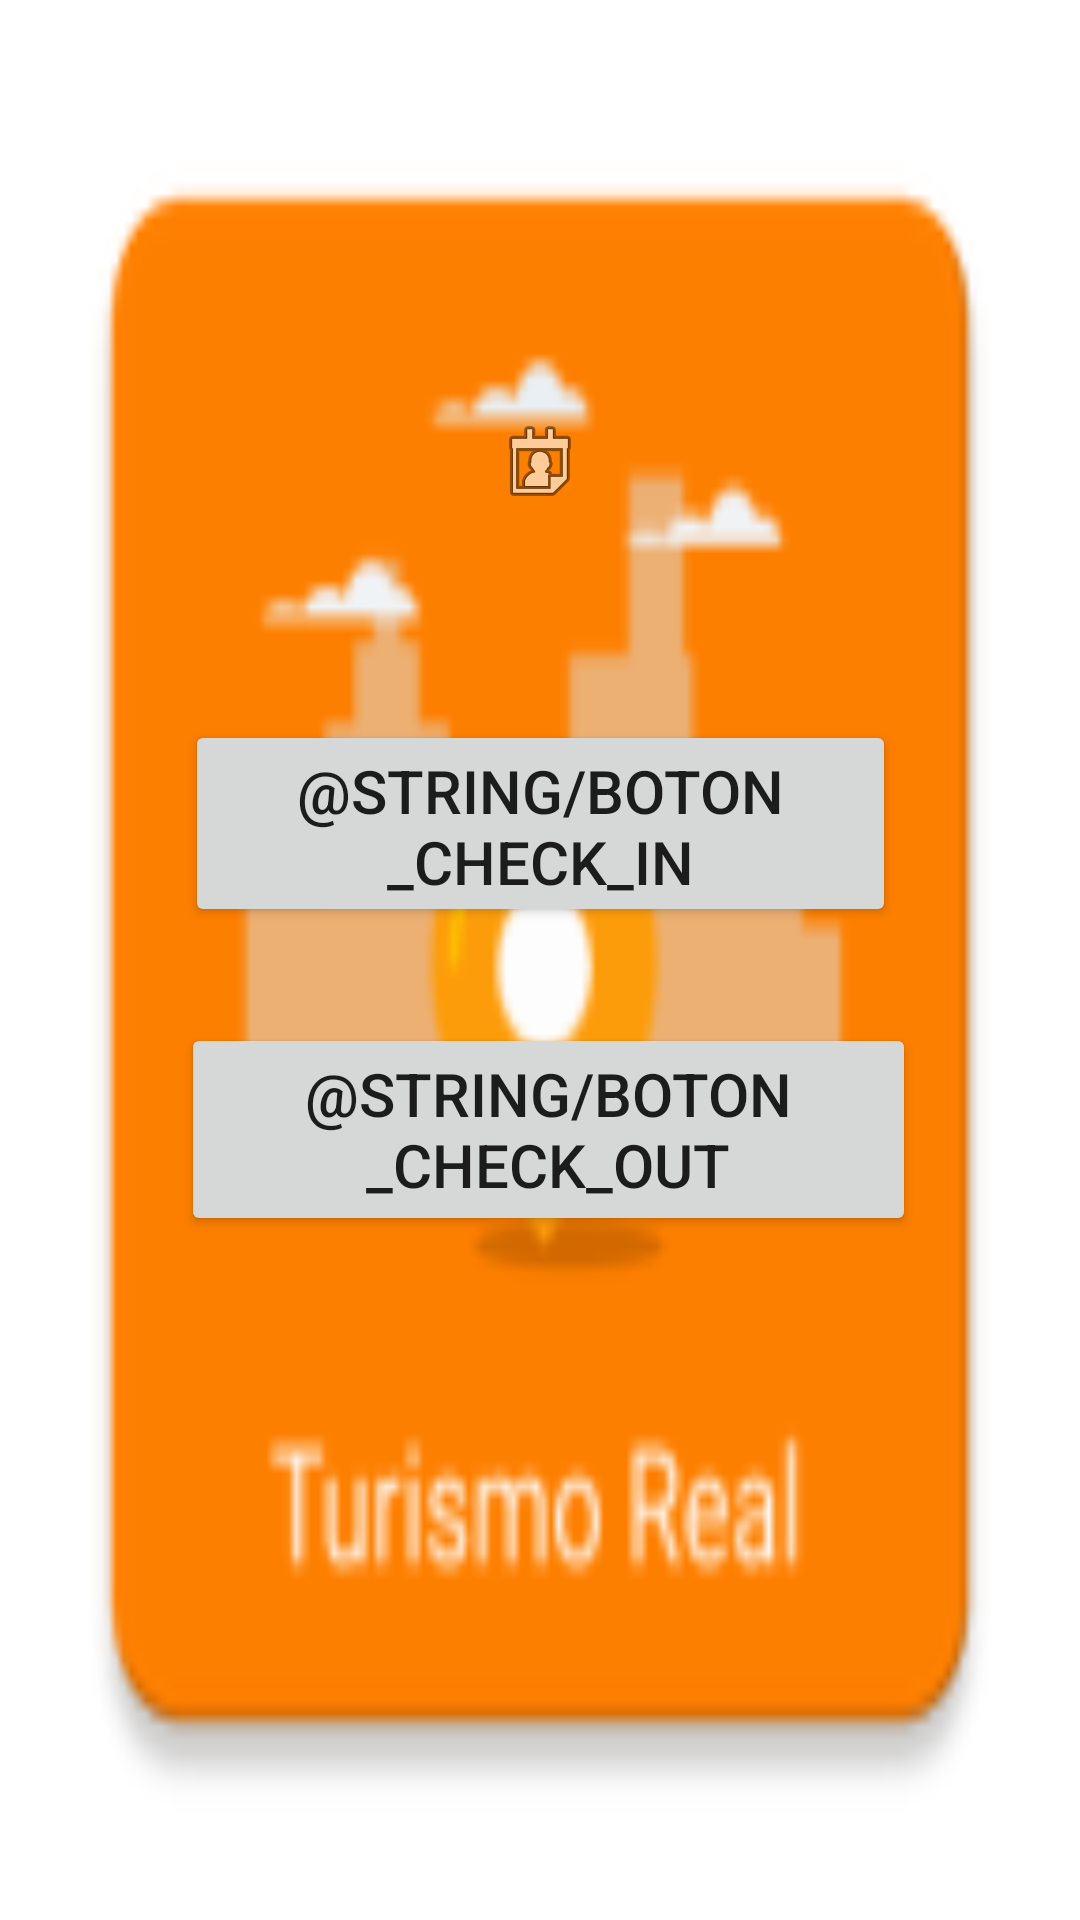

Screen size 1080 x 1920. Icon name, then its center in pixels as [x,y]:
calendar: [540,455]
